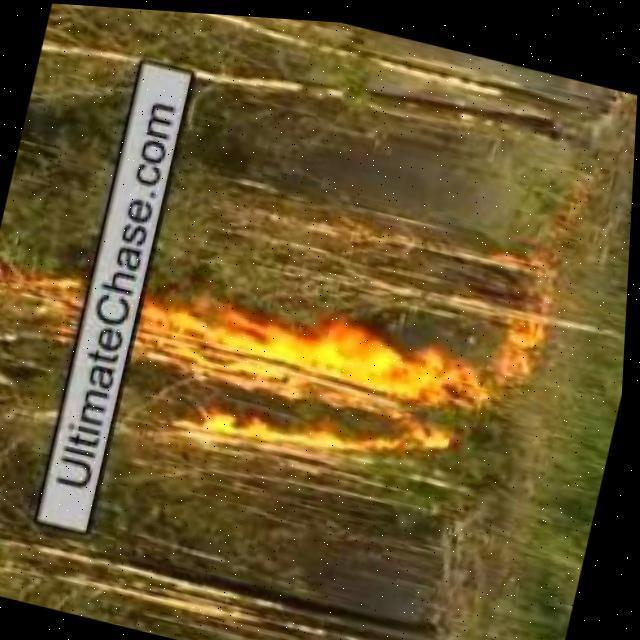fire: (109, 259, 491, 513), (0, 256, 101, 333), (497, 306, 555, 374)
